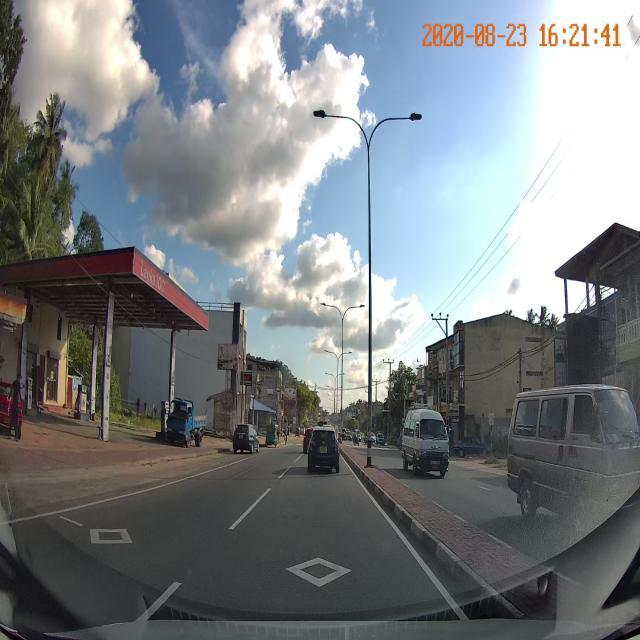diamond: (155, 529, 464, 613)
